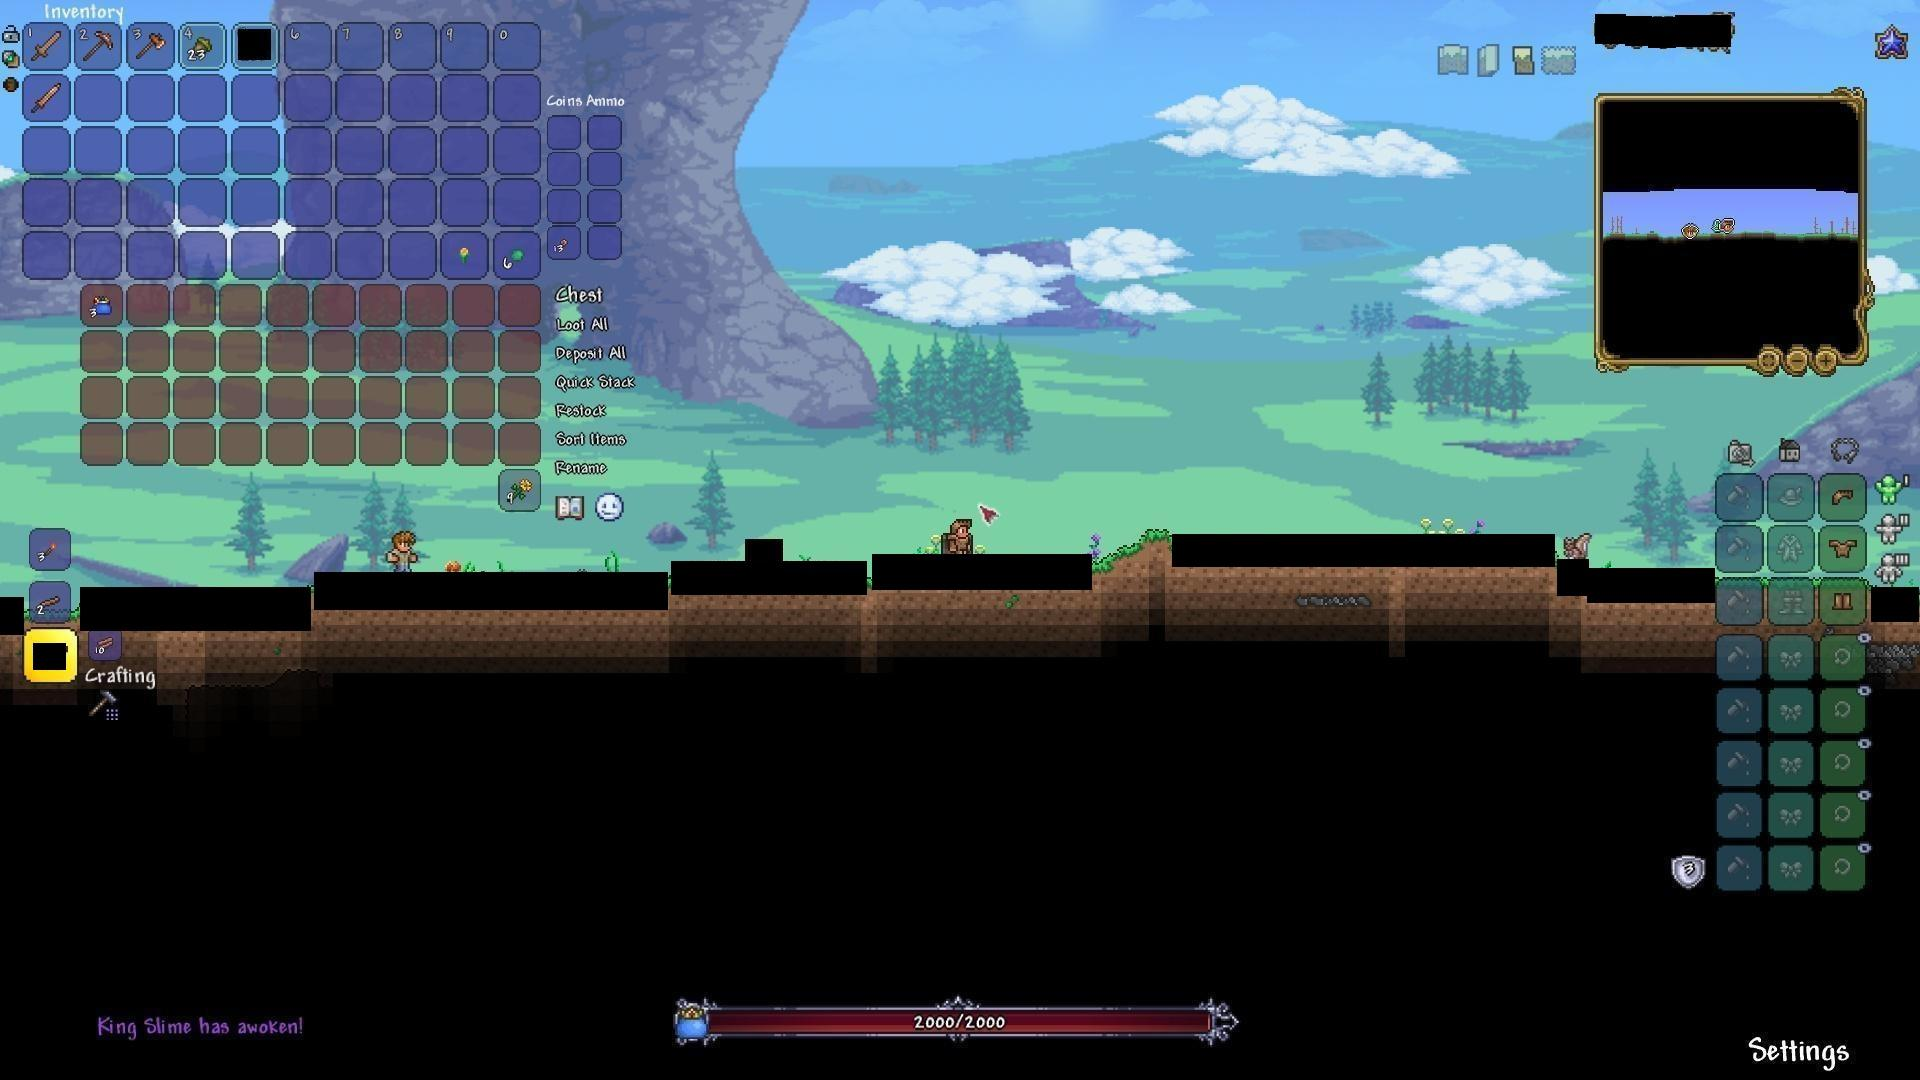breastplate: (1829, 537, 1859, 558)
dirt: (1095, 524, 1170, 574)
helmet: (1826, 483, 1858, 512)
legs: (1832, 588, 1857, 617)
wood: (88, 629, 120, 659)
